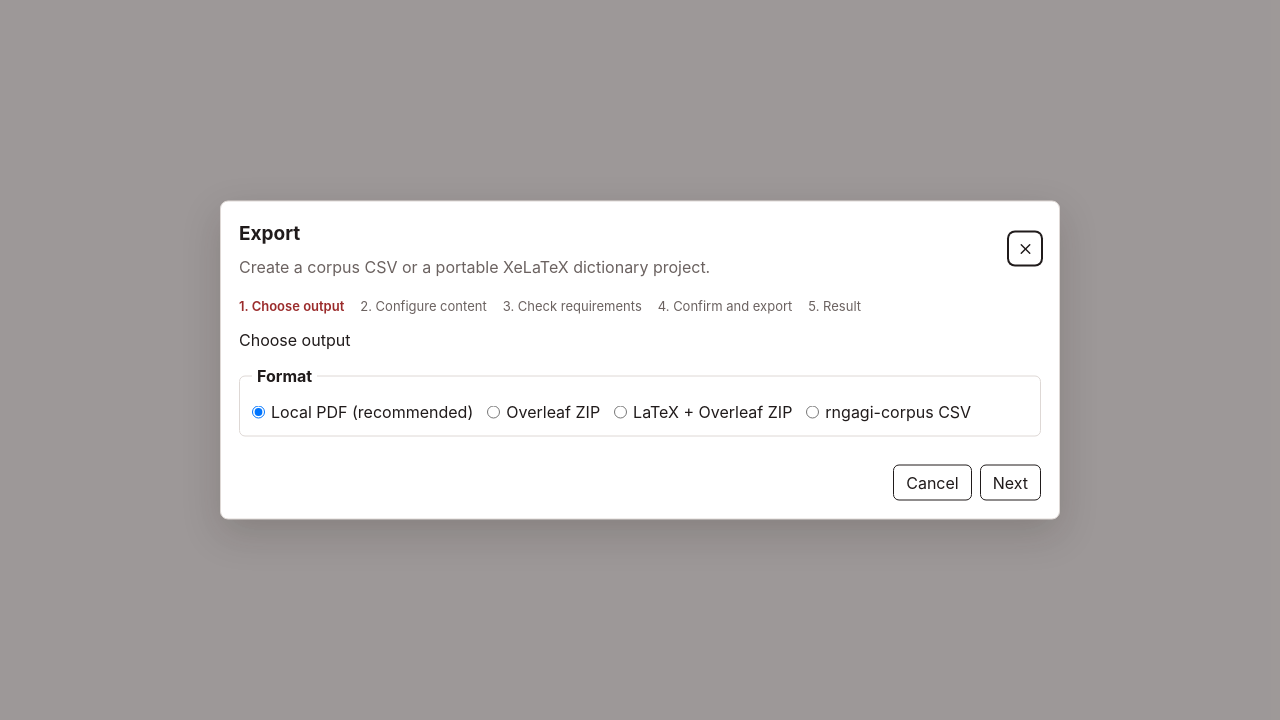
ExportDialog › flushes, persists the POS mapping, previews, and exports corpus CSV
Click the radio button labelled "CSV" at (813, 412), box [806, 405, 819, 418]
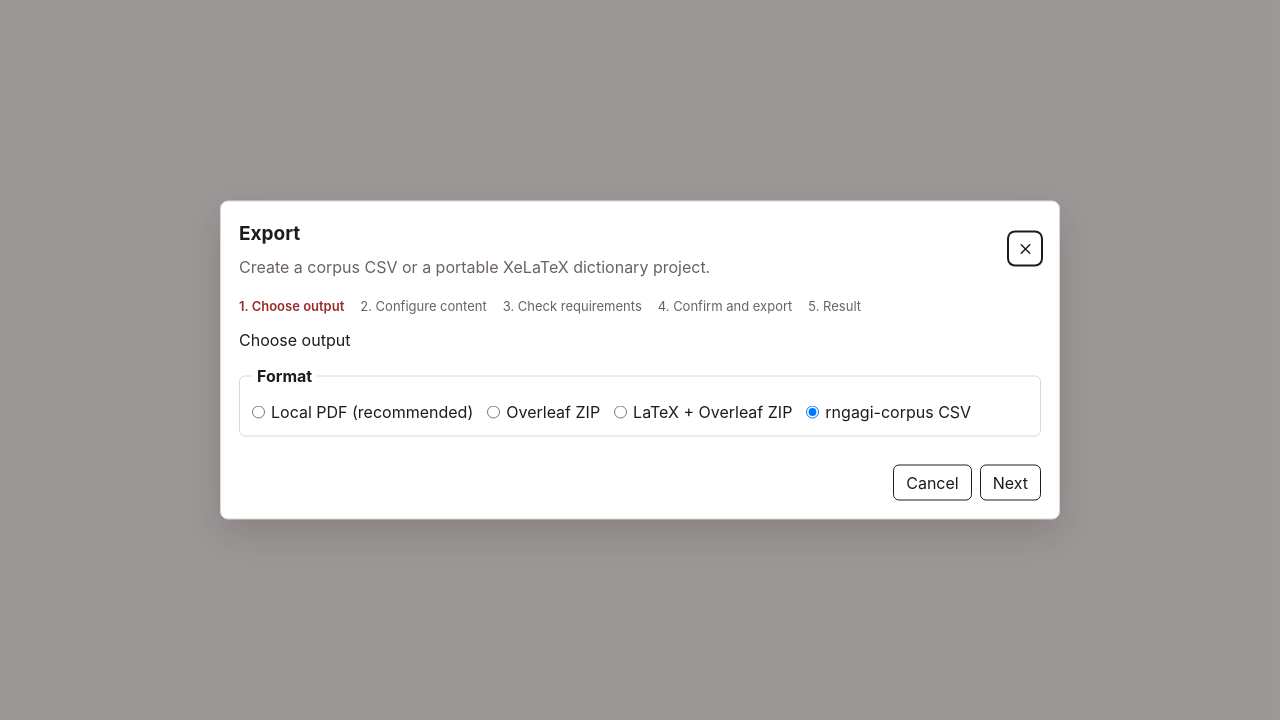
Click the button "Next" at (1010, 482), box [980, 464, 1041, 500]
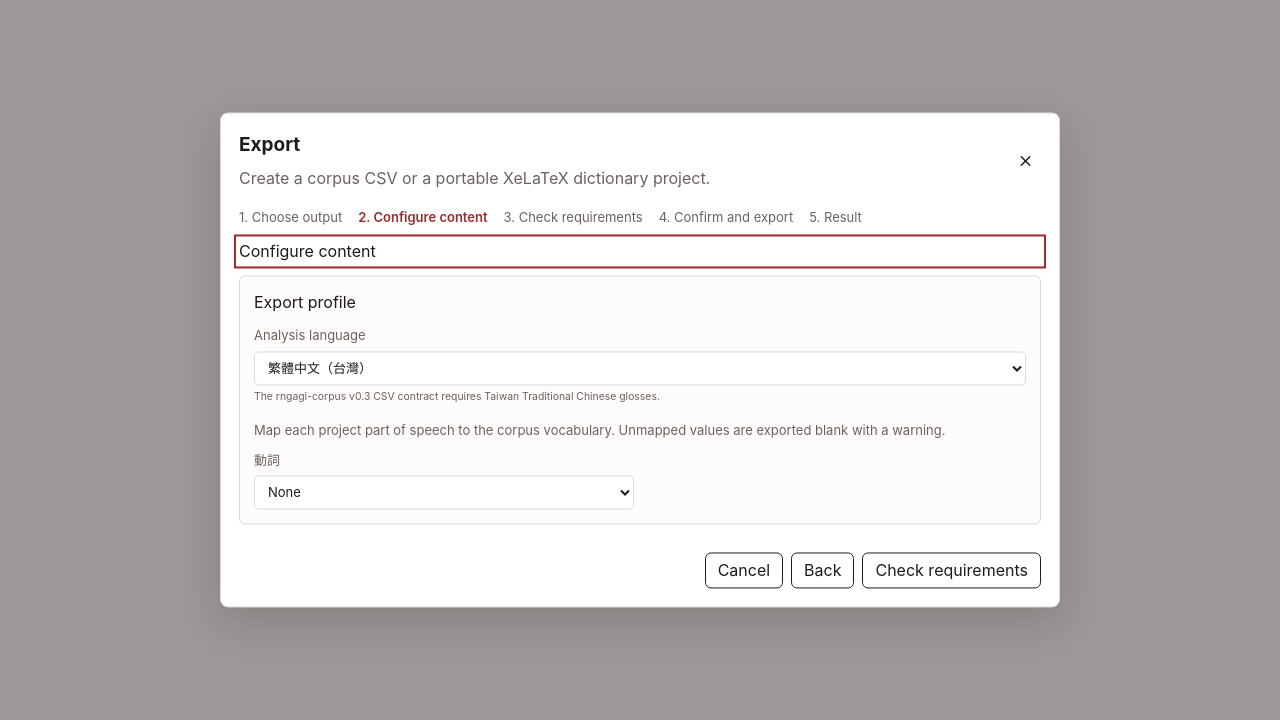
Select "Verb" in the dropdown labelled "動詞" at (444, 492), box [254, 476, 634, 510]
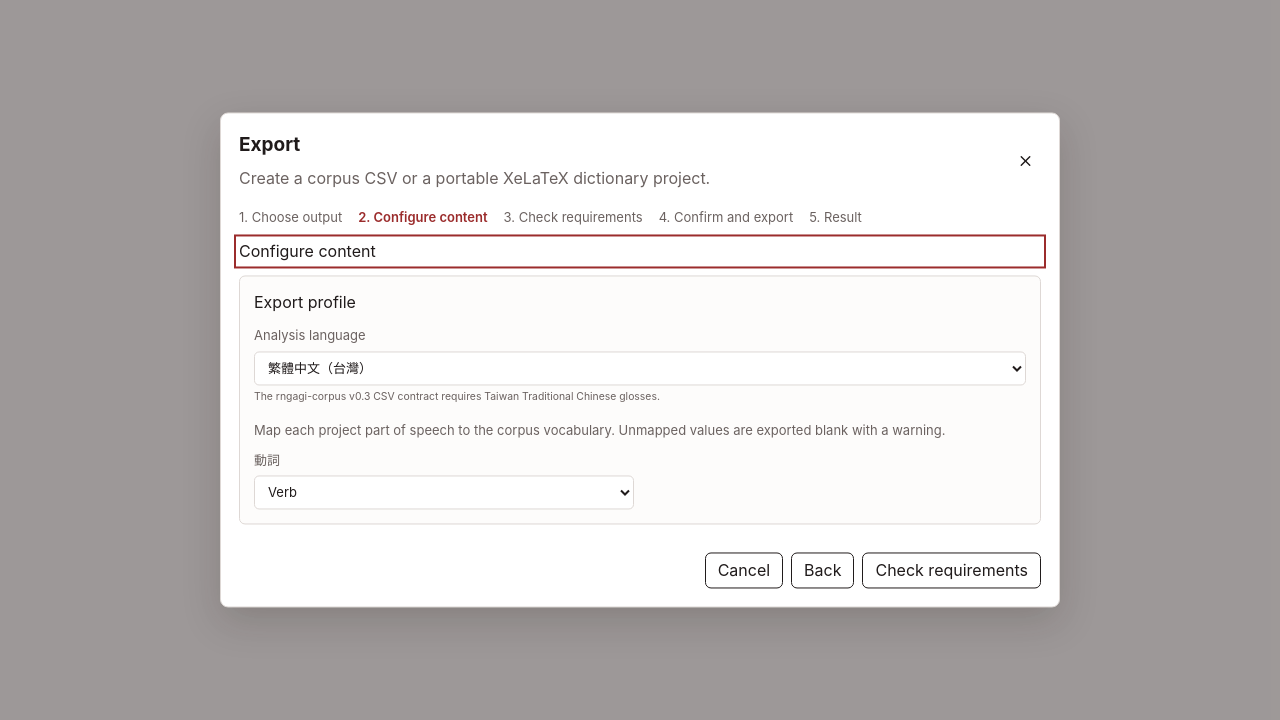
Click the button "Check requirements" at (952, 570), box [862, 552, 1041, 588]
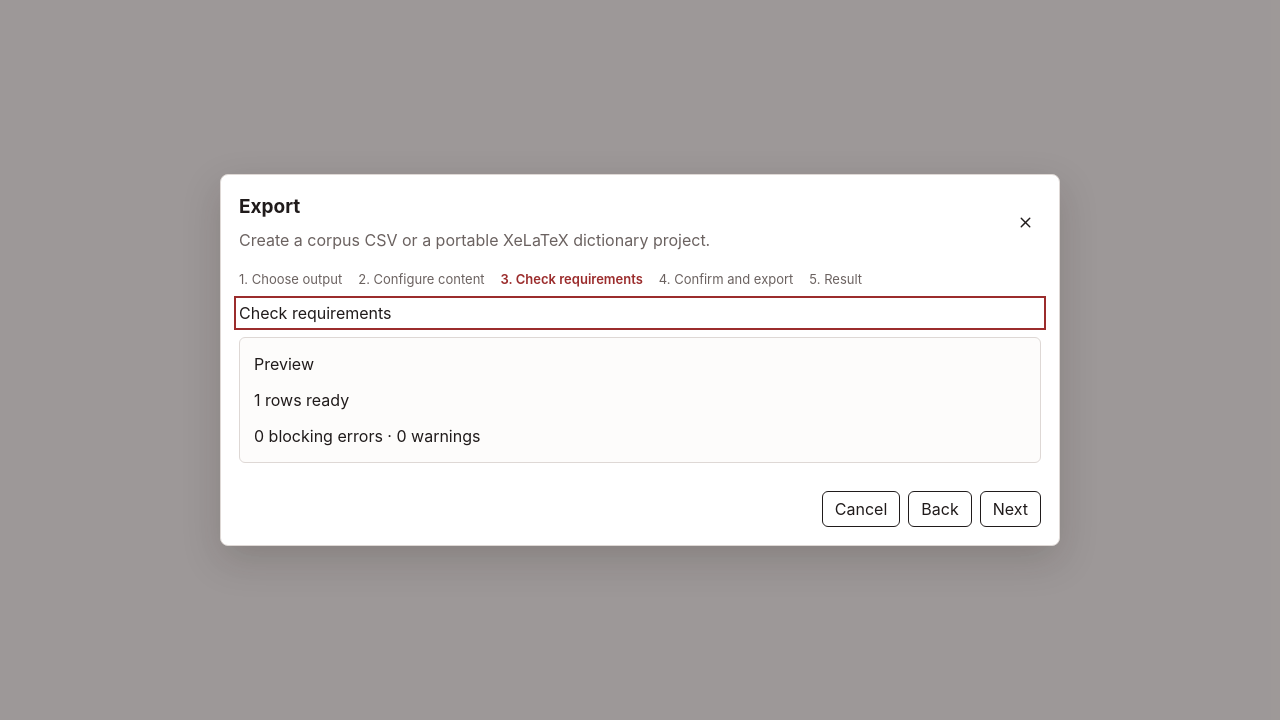
Result: the text "1 rows ready" is shown at [254, 390, 349, 410]
Click the button "Next" at (1010, 509), box [980, 491, 1041, 527]
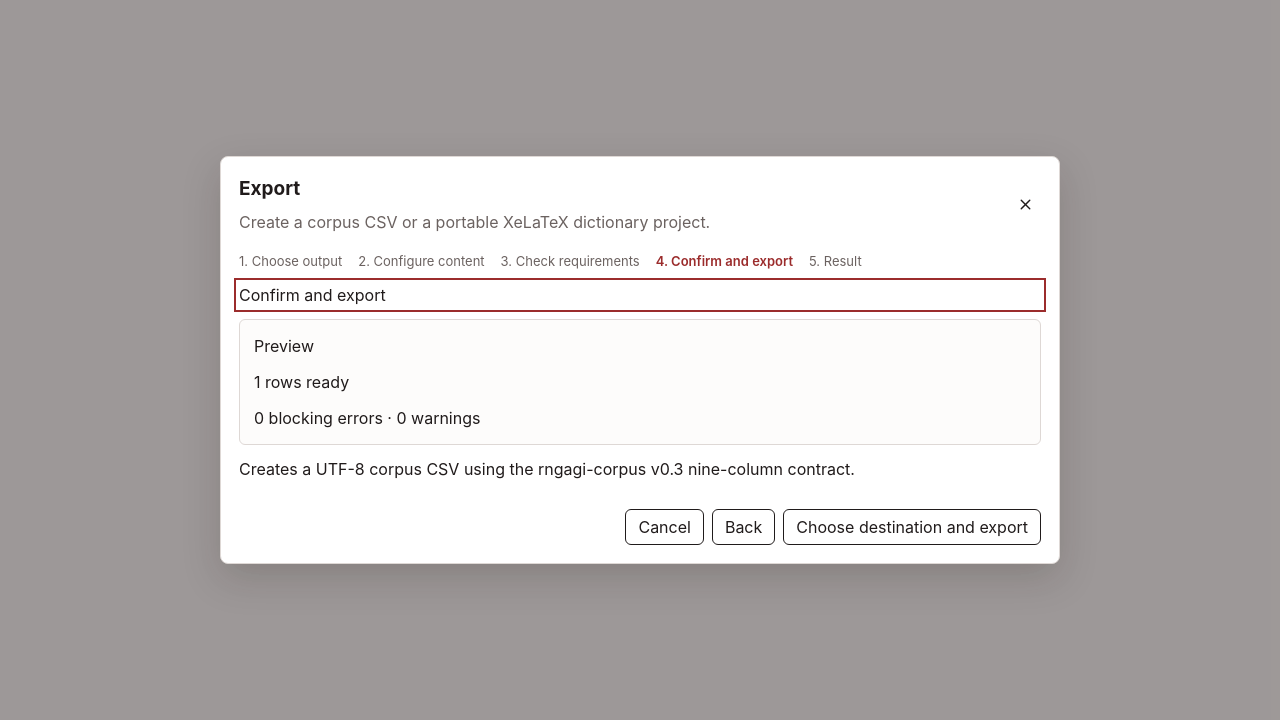
Click the button "Choose destination and export" at (912, 527), box [783, 509, 1041, 545]
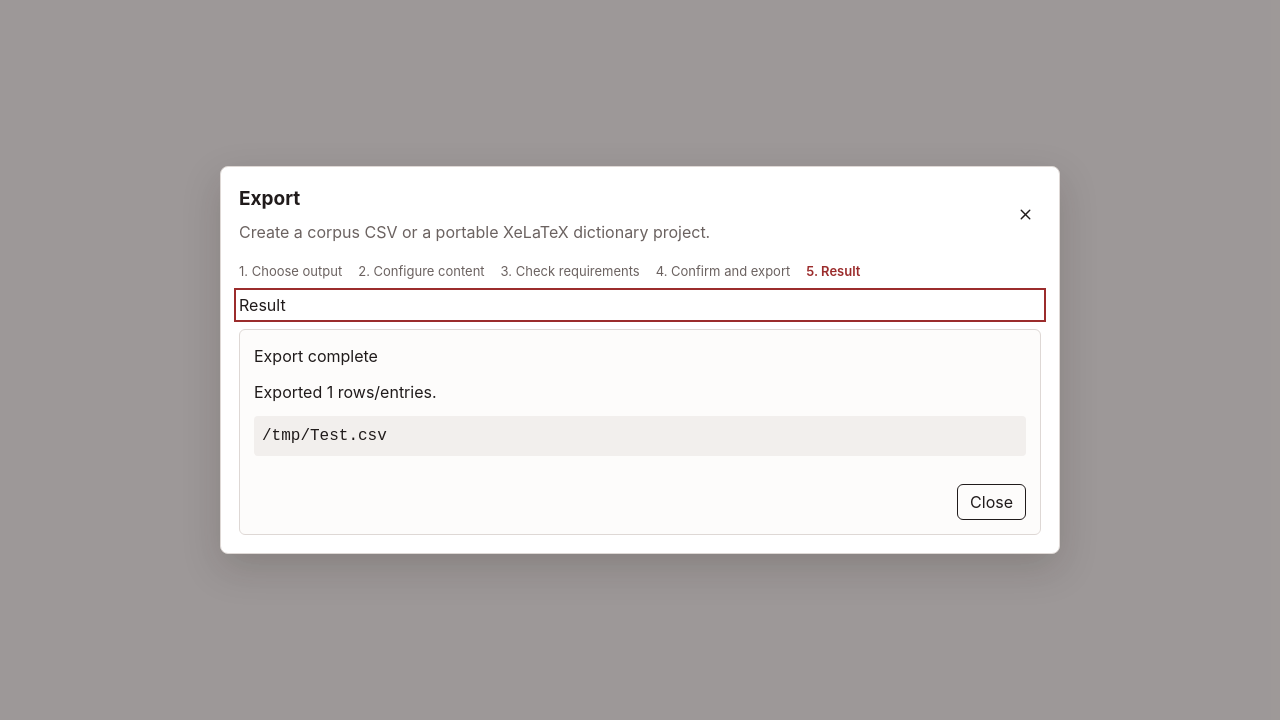
Result: the heading "Export complete" is shown at [254, 346, 378, 366]
